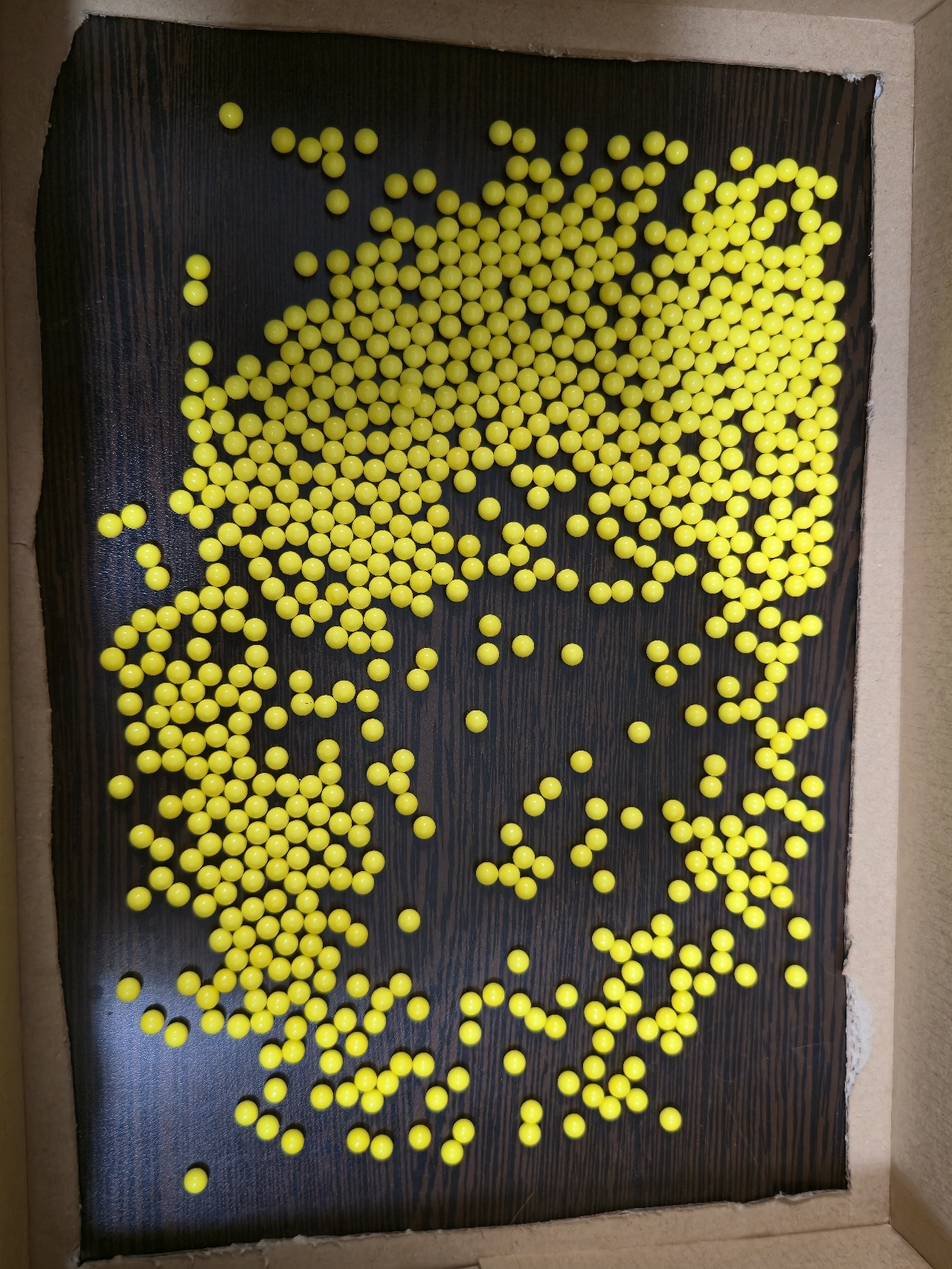yellow_bead: (790, 805, 819, 826), (103, 519, 116, 532), (127, 510, 140, 523), (195, 510, 207, 524), (176, 495, 188, 508), (800, 475, 814, 486), (740, 969, 752, 981), (142, 550, 154, 562), (239, 463, 251, 475), (216, 416, 228, 428), (796, 194, 808, 206), (820, 181, 832, 193), (665, 1113, 676, 1126), (453, 1073, 464, 1086), (509, 1056, 520, 1069), (465, 1027, 476, 1040), (530, 1013, 541, 1026), (562, 989, 573, 1002), (513, 955, 524, 968), (804, 620, 817, 631), (819, 479, 832, 490), (341, 1013, 351, 1027), (223, 528, 237, 538), (629, 1062, 640, 1074), (625, 997, 637, 1008), (609, 983, 620, 995), (675, 974, 687, 985), (794, 922, 805, 934), (776, 891, 788, 902), (358, 877, 369, 889), (755, 855, 767, 866), (791, 841, 803, 852), (750, 831, 762, 842), (291, 826, 303, 837), (591, 803, 602, 815), (785, 626, 797, 637), (764, 612, 776, 623), (373, 559, 385, 570), (752, 557, 764, 568), (205, 544, 216, 556), (722, 521, 733, 533), (732, 501, 743, 513), (735, 475, 747, 486), (726, 453, 738, 464), (724, 431, 736, 442), (736, 393, 747, 405), (195, 347, 206, 359), (820, 347, 832, 358), (715, 281, 727, 292), (721, 187, 733, 198), (171, 1028, 181, 1041), (814, 501, 827, 511), (761, 459, 774, 469), (565, 1076, 574, 1090), (370, 1018, 381, 1029), (791, 971, 802, 982), (685, 950, 696, 961), (598, 934, 609, 945), (749, 912, 760, 923), (674, 886, 685, 897), (726, 820, 737, 831), (626, 812, 637, 823), (292, 800, 303, 811), (529, 799, 540, 810), (779, 765, 790, 776), (710, 760, 721, 771), (634, 727, 645, 738), (762, 722, 773, 733), (471, 716, 482, 727), (811, 713, 822, 724), (771, 667, 782, 678), (762, 647, 773, 658), (728, 582, 739, 593), (707, 577, 718, 588), (816, 550, 827, 561), (620, 542, 631, 553), (817, 526, 828, 537), (701, 525, 712, 536), (798, 513, 809, 524), (666, 511, 677, 522), (696, 487, 707, 498), (777, 481, 788, 492), (478, 452, 489, 463), (799, 446, 810, 457), (705, 444, 716, 455), (396, 432, 407, 443), (245, 420, 256, 431), (748, 416, 759, 427), (718, 404, 729, 415), (771, 378, 782, 389), (829, 326, 840, 337), (713, 324, 724, 335), (527, 1105, 537, 1117), (633, 1094, 643, 1106), (643, 1023, 653, 1035), (715, 958, 727, 968), (637, 936, 647, 948), (717, 935, 729, 945), (658, 919, 668, 931), (367, 856, 379, 866), (329, 849, 341, 859), (356, 807, 368, 817), (782, 648, 794, 658), (767, 542, 779, 552), (781, 524, 791, 536), (760, 521, 772, 531), (214, 468, 226, 478), (706, 466, 716, 478), (346, 461, 358, 471), (390, 455, 402, 465), (760, 437, 772, 447), (759, 396, 769, 408), (688, 376, 698, 388), (701, 358, 711, 370), (706, 301, 716, 313), (779, 298, 789, 310), (804, 215, 816, 225), (761, 170, 771, 182), (265, 1051, 274, 1064), (612, 1012, 621, 1025), (701, 978, 710, 991), (155, 872, 168, 881), (232, 1022, 242, 1033), (395, 979, 406, 989), (628, 967, 638, 978), (404, 915, 415, 925), (701, 876, 712, 886), (599, 876, 609, 887), (707, 842, 718, 852), (591, 834, 602, 844), (506, 829, 517, 839), (677, 827, 687, 838), (698, 822, 708, 833), (749, 799, 760, 809), (771, 794, 782, 804), (373, 768, 384, 778), (398, 755, 409, 765), (270, 712, 281, 722), (684, 649, 695, 659), (742, 637, 752, 648), (712, 622, 722, 633), (647, 586, 658, 596), (617, 585, 628, 595), (765, 585, 776, 595), (681, 559, 691, 570), (737, 537, 747, 548), (268, 532, 279, 542), (361, 487, 371, 498), (460, 475, 471, 485), (539, 470, 550, 480), (684, 460, 694, 471), (414, 451, 425, 461), (665, 449, 675, 460), (433, 440, 444, 450), (565, 436, 576, 446), (706, 421, 716, 432), (684, 417, 695, 427), (802, 402, 812, 413), (187, 402, 197, 413), (710, 379, 720, 390), (751, 376, 761, 387), (762, 358, 773, 368), (810, 326, 820, 337), (768, 318, 778, 329), (829, 286, 839, 297), (808, 261, 818, 272), (312, 870, 324, 879), (518, 852, 530, 861), (271, 812, 283, 821), (393, 777, 405, 786), (324, 768, 336, 777), (373, 664, 385, 673), (315, 605, 327, 614), (538, 564, 550, 573), (254, 562, 266, 571), (338, 507, 350, 516), (315, 492, 327, 501), (231, 486, 243, 495), (817, 391, 829, 400), (728, 306, 737, 318), (770, 274, 779, 286), (680, 256, 689, 268), (517, 999, 525, 1012), (570, 1123, 580, 1133), (419, 1062, 429, 1072), (733, 876, 743, 886), (539, 861, 549, 871), (733, 842, 743, 852), (546, 783, 556, 793), (762, 753, 772, 763), (691, 710, 701, 720), (653, 646, 663, 656), (519, 640, 529, 650), (730, 607, 740, 617), (418, 600, 428, 610), (792, 581, 802, 591), (811, 572, 821, 582), (726, 561, 736, 571), (573, 520, 583, 530), (756, 483, 766, 493), (264, 468, 274, 478), (818, 458, 828, 468), (282, 447, 292, 457), (822, 436, 832, 446), (589, 434, 599, 444), (822, 413, 832, 423), (676, 396, 686, 406), (430, 370, 440, 380), (807, 363, 817, 373), (785, 362, 795, 372), (679, 354, 689, 364), (734, 331, 744, 341), (675, 331, 685, 341), (689, 315, 699, 325), (820, 306, 830, 316), (206, 1018, 217, 1027), (657, 943, 668, 952), (225, 913, 236, 922), (173, 888, 184, 897), (774, 867, 783, 878), (293, 852, 304, 861), (312, 834, 323, 843), (794, 723, 803, 734), (726, 707, 735, 718), (747, 704, 756, 715), (321, 701, 332, 710), (723, 681, 734, 690), (567, 649, 578, 658), (483, 649, 494, 658), (748, 593, 757, 604), (355, 593, 366, 602), (660, 566, 669, 577), (715, 542, 724, 553), (318, 515, 329, 524), (272, 509, 283, 518), (296, 504, 307, 513), (484, 503, 495, 512), (533, 492, 544, 501), (657, 491, 666, 502), (338, 483, 349, 492), (405, 474, 416, 483), (370, 465, 381, 474), (329, 446, 340, 455), (230, 437, 241, 446), (270, 425, 279, 436), (603, 417, 614, 426), (313, 405, 324, 414), (782, 397, 791, 408), (699, 397, 708, 408), (797, 343, 806, 354), (756, 336, 765, 347), (800, 303, 809, 314), (759, 294, 768, 305), (696, 272, 705, 283), (782, 164, 793, 173), (313, 1003, 321, 1015), (379, 993, 387, 1005), (618, 945, 626, 957), (251, 801, 263, 809), (271, 752, 283, 760), (367, 725, 379, 733), (412, 674, 424, 682), (251, 650, 263, 658), (297, 620, 309, 628), (227, 614, 239, 622), (181, 597, 193, 605), (205, 591, 217, 599), (267, 583, 279, 591), (334, 554, 346, 562), (670, 309, 678, 321), (123, 698, 136, 705), (238, 509, 251, 516), (281, 485, 294, 492), (606, 1105, 616, 1114), (434, 1096, 443, 1106), (328, 1059, 337, 1069), (199, 899, 209, 908), (506, 870, 515, 880), (721, 859, 730, 869), (314, 808, 324, 817), (596, 588, 606, 597), (774, 564, 783, 574), (641, 551, 651, 560), (509, 527, 519, 536), (406, 497, 416, 506), (637, 482, 646, 492), (654, 469, 663, 479), (321, 468, 331, 477), (434, 463, 443, 473), (544, 440, 553, 450), (625, 436, 634, 446), (310, 434, 319, 444), (667, 427, 676, 437), (805, 425, 814, 435), (292, 417, 302, 426), (574, 414, 584, 423), (509, 411, 518, 421), (553, 407, 563, 416), (570, 391, 579, 401), (795, 382, 805, 391), (231, 382, 241, 391), (345, 344, 354, 354), (776, 340, 785, 350), (396, 332, 405, 342), (192, 286, 202, 295), (790, 251, 800, 260), (750, 245, 759, 255), (808, 238, 817, 248), (803, 172, 812, 182), (466, 997, 477, 1005), (247, 904, 258, 912), (731, 899, 742, 907), (156, 843, 167, 851), (272, 840, 283, 848), (204, 838, 215, 846), (231, 815, 242, 823), (115, 781, 126, 789), (306, 780, 317, 788), (282, 780, 293, 788), (239, 762, 250, 770), (322, 745, 333, 753), (165, 730, 176, 738), (234, 717, 245, 725), (362, 695, 373, 703), (295, 675, 306, 683), (260, 672, 271, 680), (235, 669, 246, 677), (199, 615, 210, 623), (347, 614, 358, 622), (138, 614, 149, 622), (162, 611, 173, 619), (231, 591, 242, 599), (562, 575, 573, 583), (437, 568, 448, 576), (400, 543, 411, 551), (314, 539, 325, 547), (377, 536, 388, 544), (292, 528, 303, 536), (376, 507, 387, 515), (208, 490, 219, 498), (500, 449, 511, 457), (525, 373, 533, 384), (749, 313, 757, 324), (194, 261, 202, 272), (660, 260, 668, 271), (672, 147, 683, 155), (524, 1131, 536, 1138), (210, 730, 222, 737), (338, 686, 350, 693), (193, 643, 205, 650), (451, 585, 463, 592), (355, 544, 367, 551), (190, 473, 202, 480), (222, 887, 231, 896), (187, 854, 196, 863), (616, 489, 625, 498), (598, 469, 607, 478), (535, 419, 544, 428), (771, 417, 780, 426), (547, 382, 556, 391), (375, 340, 384, 349), (469, 307, 478, 316), (750, 269, 759, 278), (741, 208, 750, 217), (124, 983, 132, 993), (325, 952, 335, 960), (215, 934, 225, 942), (302, 896, 312, 904), (134, 893, 144, 901), (227, 864, 237, 872), (577, 850, 587, 858), (254, 827, 264, 835), (419, 821, 429, 829), (402, 798, 412, 806), (231, 785, 241, 793), (811, 781, 819, 791), (579, 756, 587, 766), (215, 756, 225, 764), (132, 727, 142, 735), (202, 704, 212, 712), (354, 637, 364, 645), (377, 635, 387, 643), (250, 623, 260, 631), (152, 572, 162, 580), (495, 559, 505, 567), (514, 550, 524, 558), (647, 524, 655, 534), (595, 498, 605, 506), (385, 484, 395, 492), (517, 470, 527, 478), (256, 446, 266, 454), (351, 437, 361, 445), (495, 427, 503, 437), (667, 370, 675, 380), (420, 328, 428, 338), (790, 274, 800, 282), (695, 240, 703, 250), (692, 195, 700, 205), (670, 1039, 677, 1050), (250, 852, 261, 859), (327, 791, 338, 798), (187, 685, 198, 692), (370, 614, 381, 621), (282, 602, 293, 609), (375, 582, 386, 589), (353, 569, 364, 576), (395, 567, 406, 574), (285, 557, 296, 564), (684, 530, 691, 541), (417, 527, 428, 534), (444, 391, 451, 402), (593, 1061, 599, 1073), (252, 997, 260, 1006), (356, 980, 364, 989), (262, 922, 271, 930), (287, 915, 296, 923), (135, 830, 144, 838), (188, 794, 197, 802), (260, 778, 269, 786), (126, 669, 135, 677), (423, 653, 432, 661), (633, 505, 641, 514), (255, 492, 267, 498), (677, 481, 685, 490), (561, 475, 570, 483), (620, 467, 628, 476), (199, 449, 211, 455), (376, 437, 384, 446), (467, 434, 475, 443), (420, 425, 428, 434), (462, 411, 471, 419), (592, 399, 600, 408), (528, 397, 536, 406), (650, 385, 658, 394), (828, 370, 836, 379), (318, 357, 327, 365), (539, 335, 547, 344), (329, 327, 338, 335), (665, 286, 673, 295), (448, 272, 457, 280), (736, 229, 744, 238), (483, 868, 493, 875), (669, 805, 679, 812), (781, 738, 788, 748), (152, 710, 162, 717), (765, 687, 772, 697), (205, 668, 215, 675), (426, 486, 436, 493), (341, 368, 348, 378), (647, 362, 654, 372), (413, 350, 420, 360), (308, 332, 315, 342), (716, 234, 723, 244), (282, 939, 293, 945), (212, 803, 223, 809), (154, 634, 165, 640), (120, 631, 131, 637), (397, 591, 408, 597), (358, 521, 369, 527), (379, 1146, 387, 1154), (684, 1021, 692, 1029), (205, 871, 213, 879), (664, 670, 672, 678), (607, 449, 615, 457), (486, 400, 494, 408), (321, 383, 329, 391), (583, 347, 591, 355), (346, 1093, 353, 1102), (185, 977, 192, 986), (356, 831, 365, 838), (161, 688, 170, 695), (521, 575, 530, 582), (434, 510, 443, 517), (647, 428, 654, 437), (565, 367, 572, 376), (505, 364, 512, 373), (245, 363, 254, 370), (389, 361, 396, 370), (436, 347, 443, 356), (382, 315, 389, 324), (428, 306, 435, 315), (430, 283, 437, 292), (362, 272, 369, 281), (459, 1131, 469, 1137), (274, 997, 280, 1007), (229, 840, 239, 846), (143, 756, 153, 762), (233, 741, 243, 747), (302, 587, 312, 593), (212, 569, 222, 575), (344, 392, 350, 402), (385, 268, 391, 278), (257, 1020, 264, 1028), (195, 817, 203, 824), (470, 563, 477, 571), (247, 540, 255, 547), (582, 455, 590, 462), (628, 414, 635, 422), (409, 391, 416, 399), (660, 346, 668, 353), (448, 323, 455, 331), (513, 304, 520, 312), (450, 297, 457, 305), (739, 289, 747, 296), (426, 257, 434, 264), (371, 1099, 377, 1108), (759, 884, 765, 893), (168, 755, 177, 761), (417, 576, 426, 582), (466, 540, 475, 546), (802, 538, 808, 547), (605, 523, 614, 529), (481, 355, 487, 364), (605, 332, 611, 341), (574, 321, 580, 330), (344, 306, 350, 315), (367, 296, 373, 305), (387, 295, 396, 301), (697, 856, 702, 866), (296, 988, 303, 995), (299, 963, 306, 970), (241, 932, 248, 939), (398, 520, 405, 527), (775, 503, 782, 510), (276, 368, 283, 375), (626, 362, 633, 369), (543, 361, 550, 368), (469, 260, 476, 267), (711, 257, 718, 264), (451, 1151, 457, 1159), (249, 975, 257, 981), (234, 955, 240, 963), (294, 878, 300, 886), (440, 537, 448, 543), (631, 391, 637, 399), (488, 378, 494, 386), (588, 376, 594, 384), (653, 324, 659, 332), (498, 319, 504, 327), (596, 312, 602, 320), (582, 274, 588, 282), (409, 273, 415, 281), (562, 264, 568, 272), (448, 249, 454, 257), (654, 138, 660, 146), (443, 415, 448, 424), (614, 379, 619, 388), (630, 301, 635, 310), (579, 297, 584, 306), (559, 286, 564, 295), (472, 283, 477, 292), (633, 173, 638, 182), (355, 928, 361, 935), (524, 884, 531, 890), (176, 666, 183, 672), (109, 653, 116, 659), (488, 620, 495, 626), (298, 466, 305, 472), (260, 384, 266, 391), (640, 342, 646, 349), (274, 329, 281, 335), (538, 298, 544, 305), (521, 283, 527, 290), (367, 251, 373, 258), (490, 250, 496, 257), (551, 244, 557, 251), (446, 226, 453, 232), (654, 168, 660, 175), (618, 143, 624, 150), (190, 1175, 198, 1180), (385, 1082, 393, 1087), (563, 342, 568, 350), (553, 316, 558, 324), (492, 295, 497, 303), (491, 272, 496, 280), (604, 266, 609, 274), (629, 209, 634, 217), (457, 454, 463, 460), (458, 367, 462, 376), (361, 324, 367, 330), (294, 315, 300, 321), (642, 280, 648, 286), (530, 251, 536, 257), (390, 247, 396, 253), (606, 245, 612, 251), (646, 197, 652, 203), (225, 690, 232, 695), (401, 414, 408, 419), (468, 389, 473, 396), (316, 308, 323, 313), (586, 253, 591, 260), (655, 228, 660, 235), (586, 192, 591, 199), (517, 190, 522, 197), (297, 699, 301, 707), (311, 568, 319, 572), (684, 1000, 689, 1006), (276, 966, 282, 971), (339, 874, 344, 880), (210, 780, 216, 785), (194, 762, 199, 768), (337, 588, 342, 594), (521, 433, 526, 439), (274, 405, 280, 410), (425, 402, 430, 408), (211, 395, 217, 400), (524, 353, 530, 358), (292, 349, 298, 354), (460, 344, 465, 350), (510, 238, 515, 244), (553, 222, 558, 228), (553, 187, 558, 193), (273, 895, 277, 902), (627, 324, 631, 331), (594, 1094, 599, 1099), (323, 977, 328, 982), (335, 425, 340, 430), (411, 373, 416, 378), (365, 364, 370, 369), (606, 357, 611, 362), (425, 235, 430, 240), (530, 228, 535, 233), (510, 215, 515, 220), (573, 212, 578, 217), (494, 190, 499, 195), (501, 130, 506, 135), (243, 1108, 249, 1112), (710, 788, 716, 792), (721, 485, 727, 489), (643, 455, 647, 461), (664, 408, 668, 414), (733, 259, 739, 263), (594, 225, 597, 233), (541, 167, 545, 173), (510, 388, 513, 395), (275, 1084, 280, 1088), (314, 919, 319, 923), (276, 866, 281, 870), (192, 738, 196, 743), (780, 462, 784, 467), (356, 417, 361, 421), (501, 345, 505, 350), (520, 329, 524, 334), (407, 313, 411, 318), (652, 304, 657, 308), (403, 228, 408, 232), (228, 112, 232, 117), (573, 234, 576, 240), (620, 1087, 624, 1091), (151, 658, 155, 662), (542, 274, 546, 278), (382, 217, 386, 221), (666, 1018, 671, 1021), (426, 558, 431, 561), (678, 238, 681, 243), (573, 160, 576, 165), (267, 1125, 274, 1127), (794, 559, 801, 561), (205, 995, 208, 999), (169, 801, 171, 807), (339, 636, 343, 639), (344, 534, 348, 537), (306, 262, 309, 266), (626, 261, 629, 265), (627, 233, 630, 237), (704, 220, 707, 224), (518, 166, 522, 169), (335, 163, 338, 167), (786, 434, 791, 436), (370, 389, 372, 394), (390, 386, 392, 391), (718, 349, 720, 354), (828, 227, 833, 229), (365, 1080, 368, 1083), (602, 1040, 605, 1043), (181, 707, 184, 710), (379, 410, 382, 413), (481, 335, 484, 338), (614, 292, 617, 295), (425, 179, 428, 182), (303, 373, 305, 377), (339, 200, 341, 204), (527, 138, 529, 142), (291, 1052, 293, 1055), (356, 1044, 358, 1047), (295, 1027, 297, 1030), (311, 942, 313, 945), (257, 878, 259, 881), (254, 699, 256, 702), (335, 534, 338, 536), (196, 425, 202, 426), (298, 396, 300, 399), (342, 286, 344, 289), (512, 264, 514, 267), (491, 229, 494, 231), (312, 149, 315, 151), (322, 1097, 324, 1099), (343, 824, 345, 826), (686, 511, 688, 513), (686, 292, 690, 293), (747, 184, 751, 185), (368, 141, 370, 143), (419, 1009, 420, 1012), (729, 376, 730, 379), (793, 322, 796, 323), (540, 205, 541, 208), (340, 920, 341, 922), (419, 558, 421, 559), (691, 508, 693, 509), (787, 459, 789, 460), (731, 382, 733, 383), (773, 251, 775, 252), (327, 1032, 328, 1033), (495, 989, 496, 990), (225, 980, 226, 981), (338, 915, 339, 916), (331, 636, 332, 637), (802, 560, 803, 561), (343, 537, 344, 538), (540, 535, 541, 536), (689, 509, 690, 510), (201, 377, 202, 378), (199, 375, 200, 376), (691, 293, 692, 294), (470, 241, 471, 242), (826, 229, 827, 230), (757, 227, 758, 228), (758, 225, 759, 226), (762, 222, 763, 223), (779, 206, 780, 207), (450, 202, 451, 203), (604, 180, 605, 181), (333, 140, 334, 141), (402, 1064, 403, 1064), (335, 823, 335, 824), (307, 568, 308, 568), (422, 559, 422, 560), (688, 510, 689, 510), (792, 460, 794, 460), (785, 460, 786, 460), (199, 453, 199, 454), (202, 379, 202, 381), (730, 374, 730, 375), (745, 353, 746, 353), (791, 323, 791, 324), (834, 228, 834, 229), (472, 213, 472, 214), (605, 179, 605, 179)
